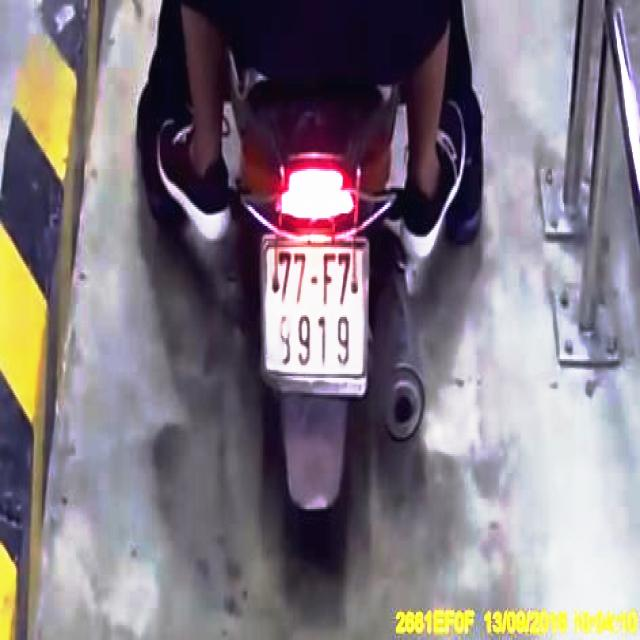license_plate: (264, 236, 372, 383)
